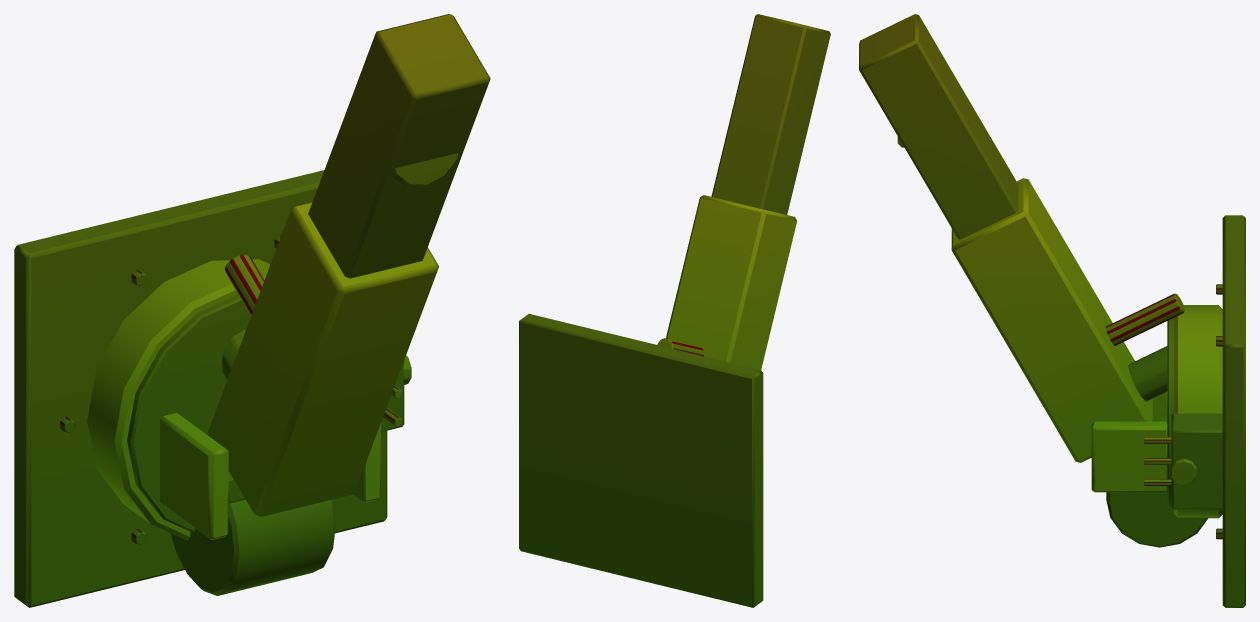
The model's file is RCLModule_salvage_hauler_minefield_ordnance_carrier_sponsons.fbx.
3 renders of one model, left to right at view 1: azimuth 30°, elevation 25°; view 2: azimuth 150°, elevation 25°; view 3: azimuth 270°, elevation 25°, orthographic. The views are drawn at different scales.
Visible parts, largest first — view 1: RCLModule_salvage_hauler_minefield_ordnance_carrier_sponsons (×3); view 2: RCLModule_salvage_hauler_minefield_ordnance_carrier_sponsons (×3); view 3: RCLModule_salvage_hauler_minefield_ordnance_carrier_sponsons (×3).
Boxes of the visible parts, x1,y1,x2,y2 form: RCLModule_salvage_hauler_minefield_ordnance_carrier_sponsons (×3): (14,14,490,607); RCLModule_salvage_hauler_minefield_ordnance_carrier_sponsons (×3): (519,14,830,607); RCLModule_salvage_hauler_minefield_ordnance_carrier_sponsons (×3): (859,14,1245,607).
Bounding box in the file's own units: 32 × 58.74 × 39.87.
